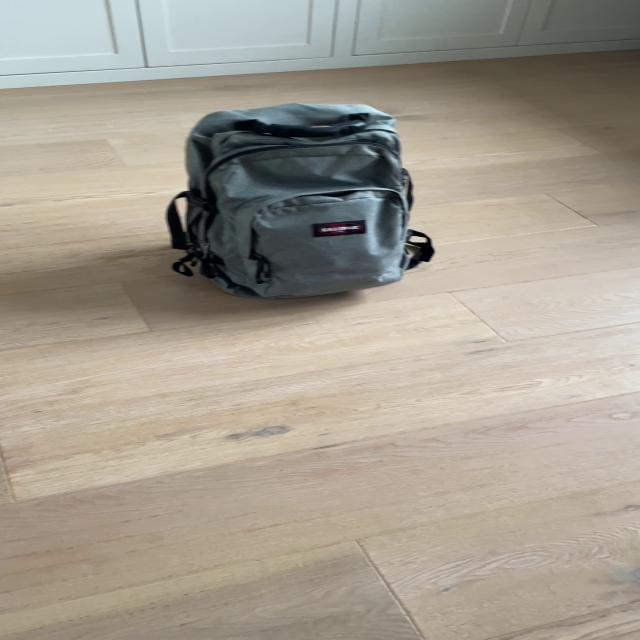backpack: (154, 92, 437, 306)
